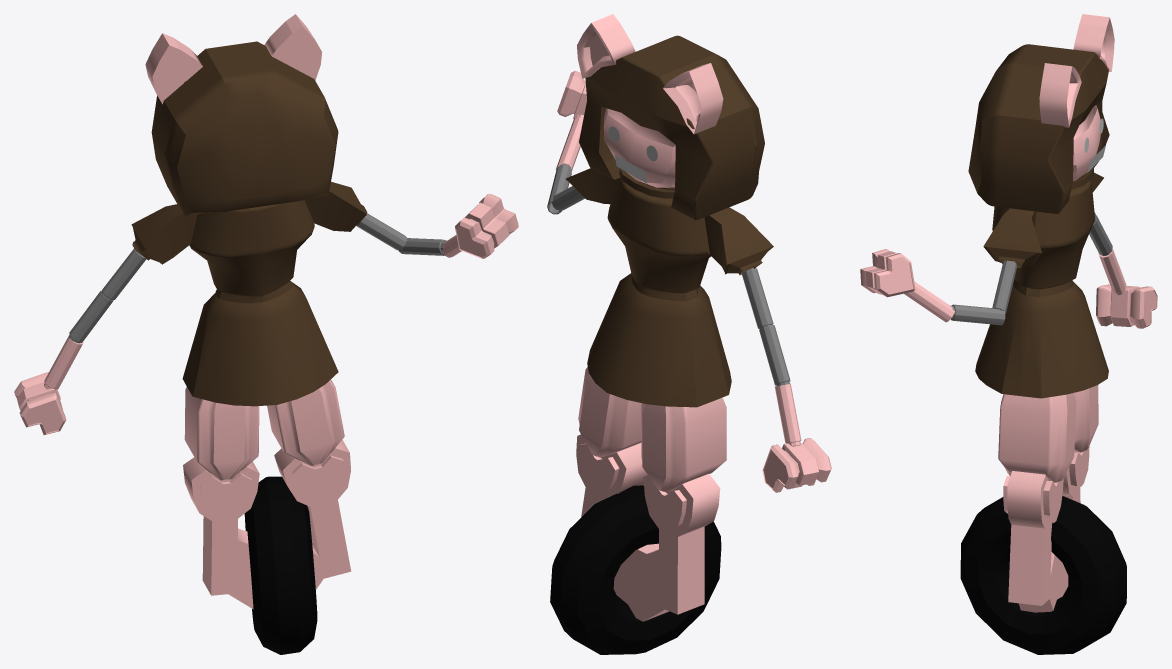
Rendered from Robotina.obj.
3 renders of one model, left to right at view 1: azimuth 30°, elevation 25°; view 2: azimuth 150°, elevation 25°; view 3: azimuth 270°, elevation 25°, orthographic. The views are drawn at different scales.
Visible parts, largest first — view 1: blinkobot_group2_blinkobot_group2_pCylinder1_blinkobot_polySurfa, blinkobot_group2_blinkobot_polySurface3_blinkobot_group2_pCylind, blinkobot_polySurface4_blinkobot_kepala_blinkobot_group2, blinkobot_group2_blinkobot_group2_pCylinder1_blinkobot_tangan1_b, blinkobot_kepala_blinkobot_group2_blinkobot_kuping1, blinkobot_kepala_blinkobot_group2_blinkobot_kuping, blinkobot_group2_blinkobot_group2_pCylinder1_blinkobot_tangan_bl; view 2: blinkobot_group2_blinkobot_group2_pCylinder1_blinkobot_polySurfa, blinkobot_group2_blinkobot_polySurface3_blinkobot_group2_pCylind, blinkobot_polySurface4_blinkobot_kepala_blinkobot_group2, blinkobot_kepala_blinkobot_group2_blinkobot_polySurface5, blinkobot_group2_blinkobot_group2_pCylinder1_blinkobot_tangan1_b, blinkobot_kepala_blinkobot_group2_blinkobot_kuping1, blinkobot_kepala_blinkobot_group2_blinkobot_kuping, blinkobot_group2_blinkobot_group2_pCylinder1_blinkobot_tangan_bl; view 3: blinkobot_group2_blinkobot_group2_pCylinder1_blinkobot_polySurfa, blinkobot_group2_blinkobot_polySurface3_blinkobot_group2_pCylind, blinkobot_polySurface4_blinkobot_kepala_blinkobot_group2, blinkobot_group2_blinkobot_group2_pCylinder1_blinkobot_tangan_bl, blinkobot_kepala_blinkobot_group2_blinkobot_kuping, blinkobot_kepala_blinkobot_group2_blinkobot_kuping1, blinkobot_kepala_blinkobot_group2_blinkobot_polySurface5, blinkobot_group2_blinkobot_group2_pCylinder1_blinkobot_tangan1_b.
Boxes of the visible parts, bbox=[...] form: blinkobot_group2_blinkobot_group2_pCylinder1_blinkobot_polySurfa: bbox=[14, 193, 518, 654]; blinkobot_group2_blinkobot_polySurface3_blinkobot_group2_pCylind: bbox=[131, 181, 367, 406]; blinkobot_polySurface4_blinkobot_kepala_blinkobot_group2: bbox=[151, 41, 338, 215]; blinkobot_group2_blinkobot_group2_pCylinder1_blinkobot_tangan1_b: bbox=[44, 248, 146, 390]; blinkobot_kepala_blinkobot_group2_blinkobot_kuping1: bbox=[145, 33, 202, 104]; blinkobot_kepala_blinkobot_group2_blinkobot_kuping: bbox=[264, 14, 322, 80]; blinkobot_group2_blinkobot_group2_pCylinder1_blinkobot_tangan_bl: bbox=[356, 213, 461, 257]; blinkobot_group2_blinkobot_group2_pCylinder1_blinkobot_polySurfa: bbox=[550, 70, 831, 654]; blinkobot_group2_blinkobot_polySurface3_blinkobot_group2_pCylind: bbox=[565, 168, 773, 407]; blinkobot_polySurface4_blinkobot_kepala_blinkobot_group2: bbox=[579, 35, 764, 220]; blinkobot_kepala_blinkobot_group2_blinkobot_polySurface5: bbox=[604, 108, 675, 187]; blinkobot_group2_blinkobot_group2_pCylinder1_blinkobot_tangan1_b: bbox=[741, 267, 801, 446]; blinkobot_kepala_blinkobot_group2_blinkobot_kuping1: bbox=[663, 63, 723, 134]; blinkobot_kepala_blinkobot_group2_blinkobot_kuping: bbox=[577, 14, 635, 78]; blinkobot_group2_blinkobot_group2_pCylinder1_blinkobot_tangan_bl: bbox=[547, 114, 584, 214]; blinkobot_group2_blinkobot_group2_pCylinder1_blinkobot_polySurfa: bbox=[860, 249, 1157, 654]; blinkobot_group2_blinkobot_polySurface3_blinkobot_group2_pCylind: bbox=[975, 167, 1108, 398]; blinkobot_polySurface4_blinkobot_kepala_blinkobot_group2: bbox=[968, 44, 1109, 213]; blinkobot_group2_blinkobot_group2_pCylinder1_blinkobot_tangan_bl: bbox=[904, 260, 1017, 325]; blinkobot_kepala_blinkobot_group2_blinkobot_kuping: bbox=[1039, 63, 1081, 127]; blinkobot_kepala_blinkobot_group2_blinkobot_kuping1: bbox=[1073, 14, 1114, 71]; blinkobot_kepala_blinkobot_group2_blinkobot_polySurface5: bbox=[1073, 105, 1100, 180]; blinkobot_group2_blinkobot_group2_pCylinder1_blinkobot_tangan1_b: bbox=[1089, 212, 1126, 295].
Size of the model in its own units: 4.64 by 7.21 by 3.25.
